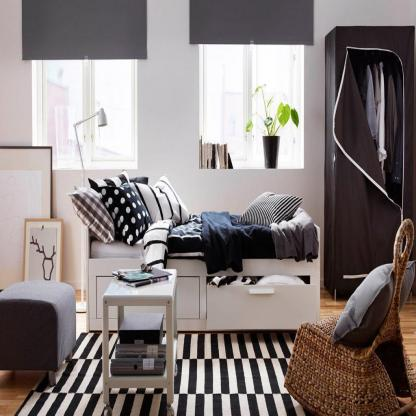Table: (101, 266, 178, 412)
